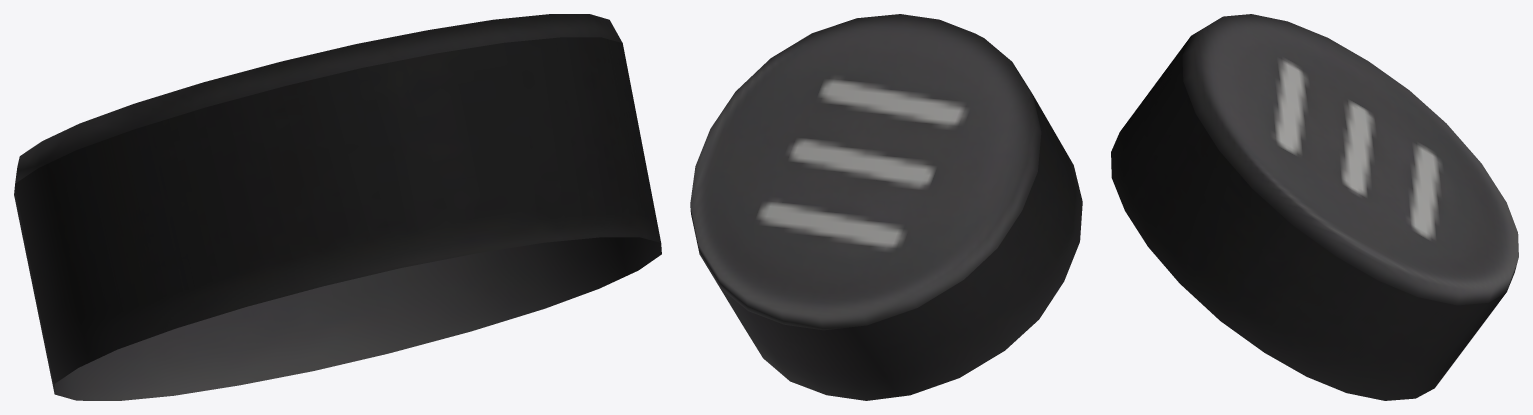
The model's file is L_menuButton.obj.
3 renders of one model, left to right at view 1: azimuth 30°, elevation 25°; view 2: azimuth 150°, elevation 25°; view 3: azimuth 270°, elevation 25°, orthographic. The views are drawn at different scales.
Parts seen in each view (by area): view 1: L_menuButton; view 2: L_menuButton; view 3: L_menuButton.
Part boxes in pixels (x1,y1,x2,y2): L_menuButton: (14,14,661,400); L_menuButton: (690,14,1082,400); L_menuButton: (1111,14,1518,400).
Size of the model in its own units: 0.00963 by 0.00815 by 0.00939.
1 material, 1 textured.
